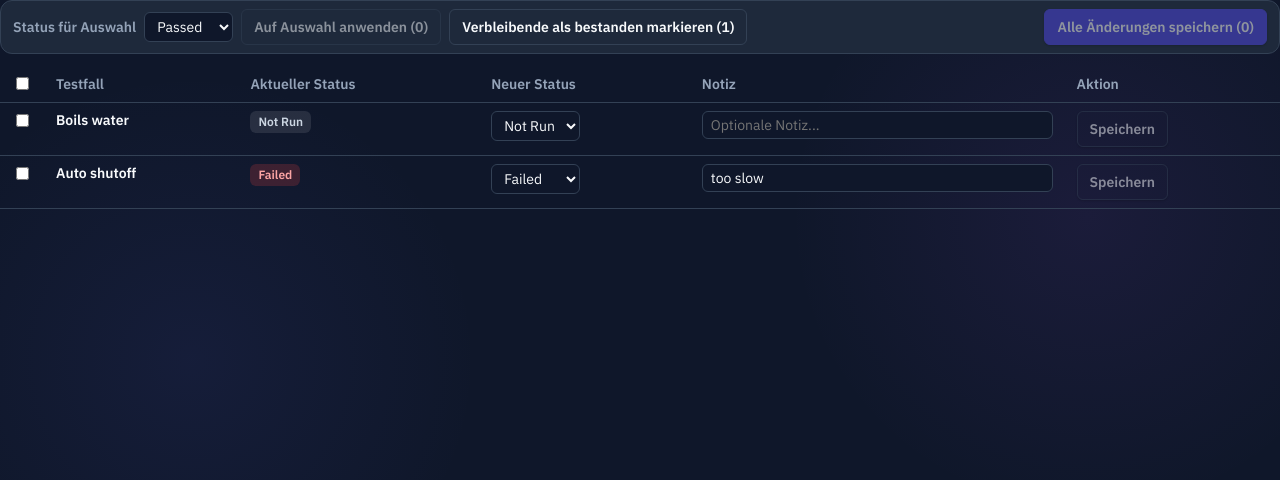
Test: TestRunResultEntryGrid (UI-04) › saves a single row via addResult, echoing the stored duration_ms
Select "Passed" in the dropdown with test id "testrun-result-status-select-res-2" at (536, 179), box [491,164,580,194]
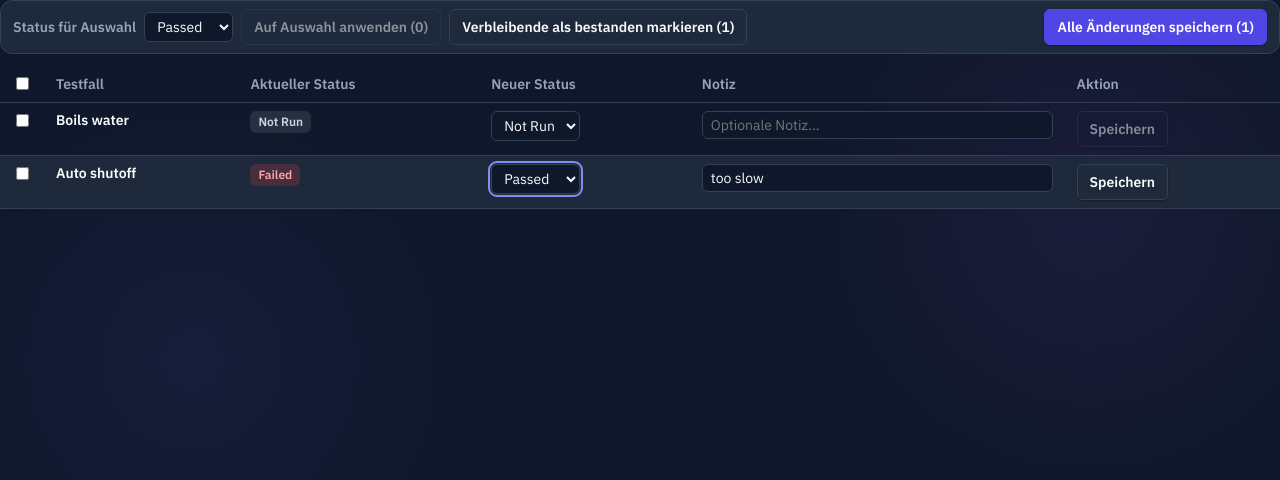
Replace the text in the field with test id "testrun-result-notes-res-2" with "retested ok" at (877, 178), box [702,164,1052,192]
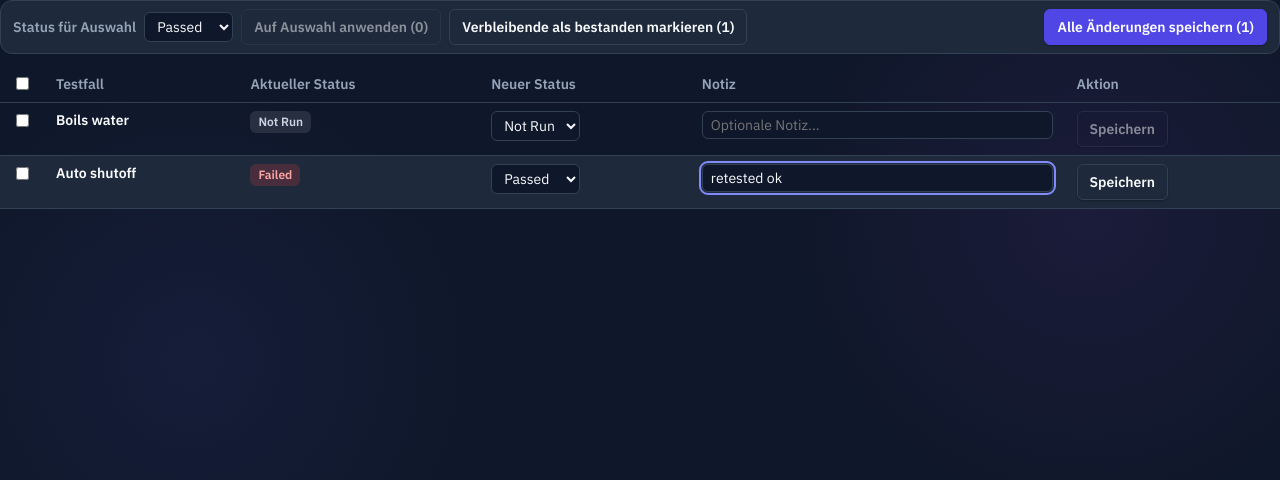
Click the button with test id "testrun-result-save-res-2".
click(1122, 182)  # box [1076,164,1168,200]
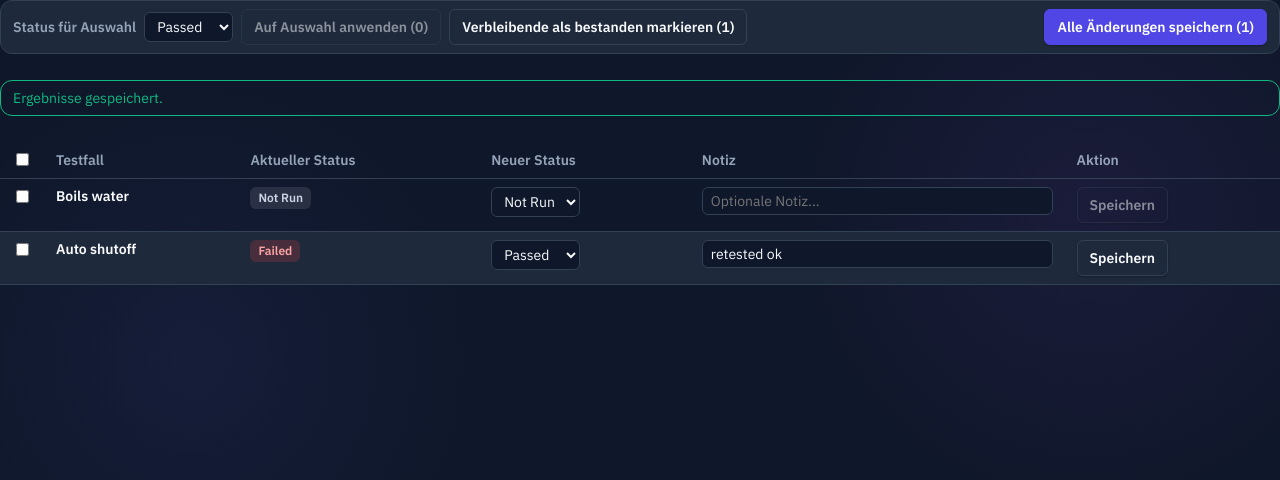
expect the message "Ergebnisse gespeichert." is shown: met, box [0,80,1279,116]
